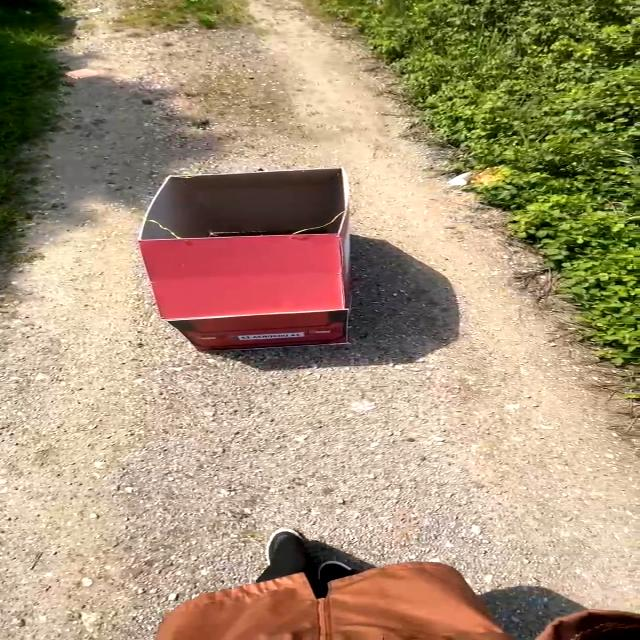red_car: (127, 148, 390, 361)
